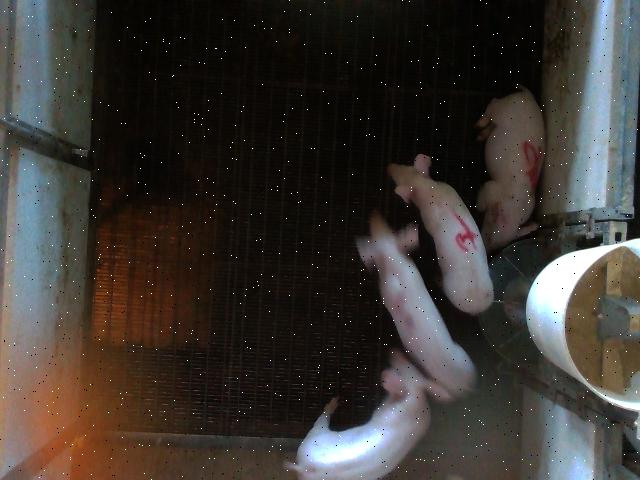pig-2: (356, 212, 476, 398)
pig-4: (388, 154, 494, 314)
pig-5: (476, 85, 545, 252)
